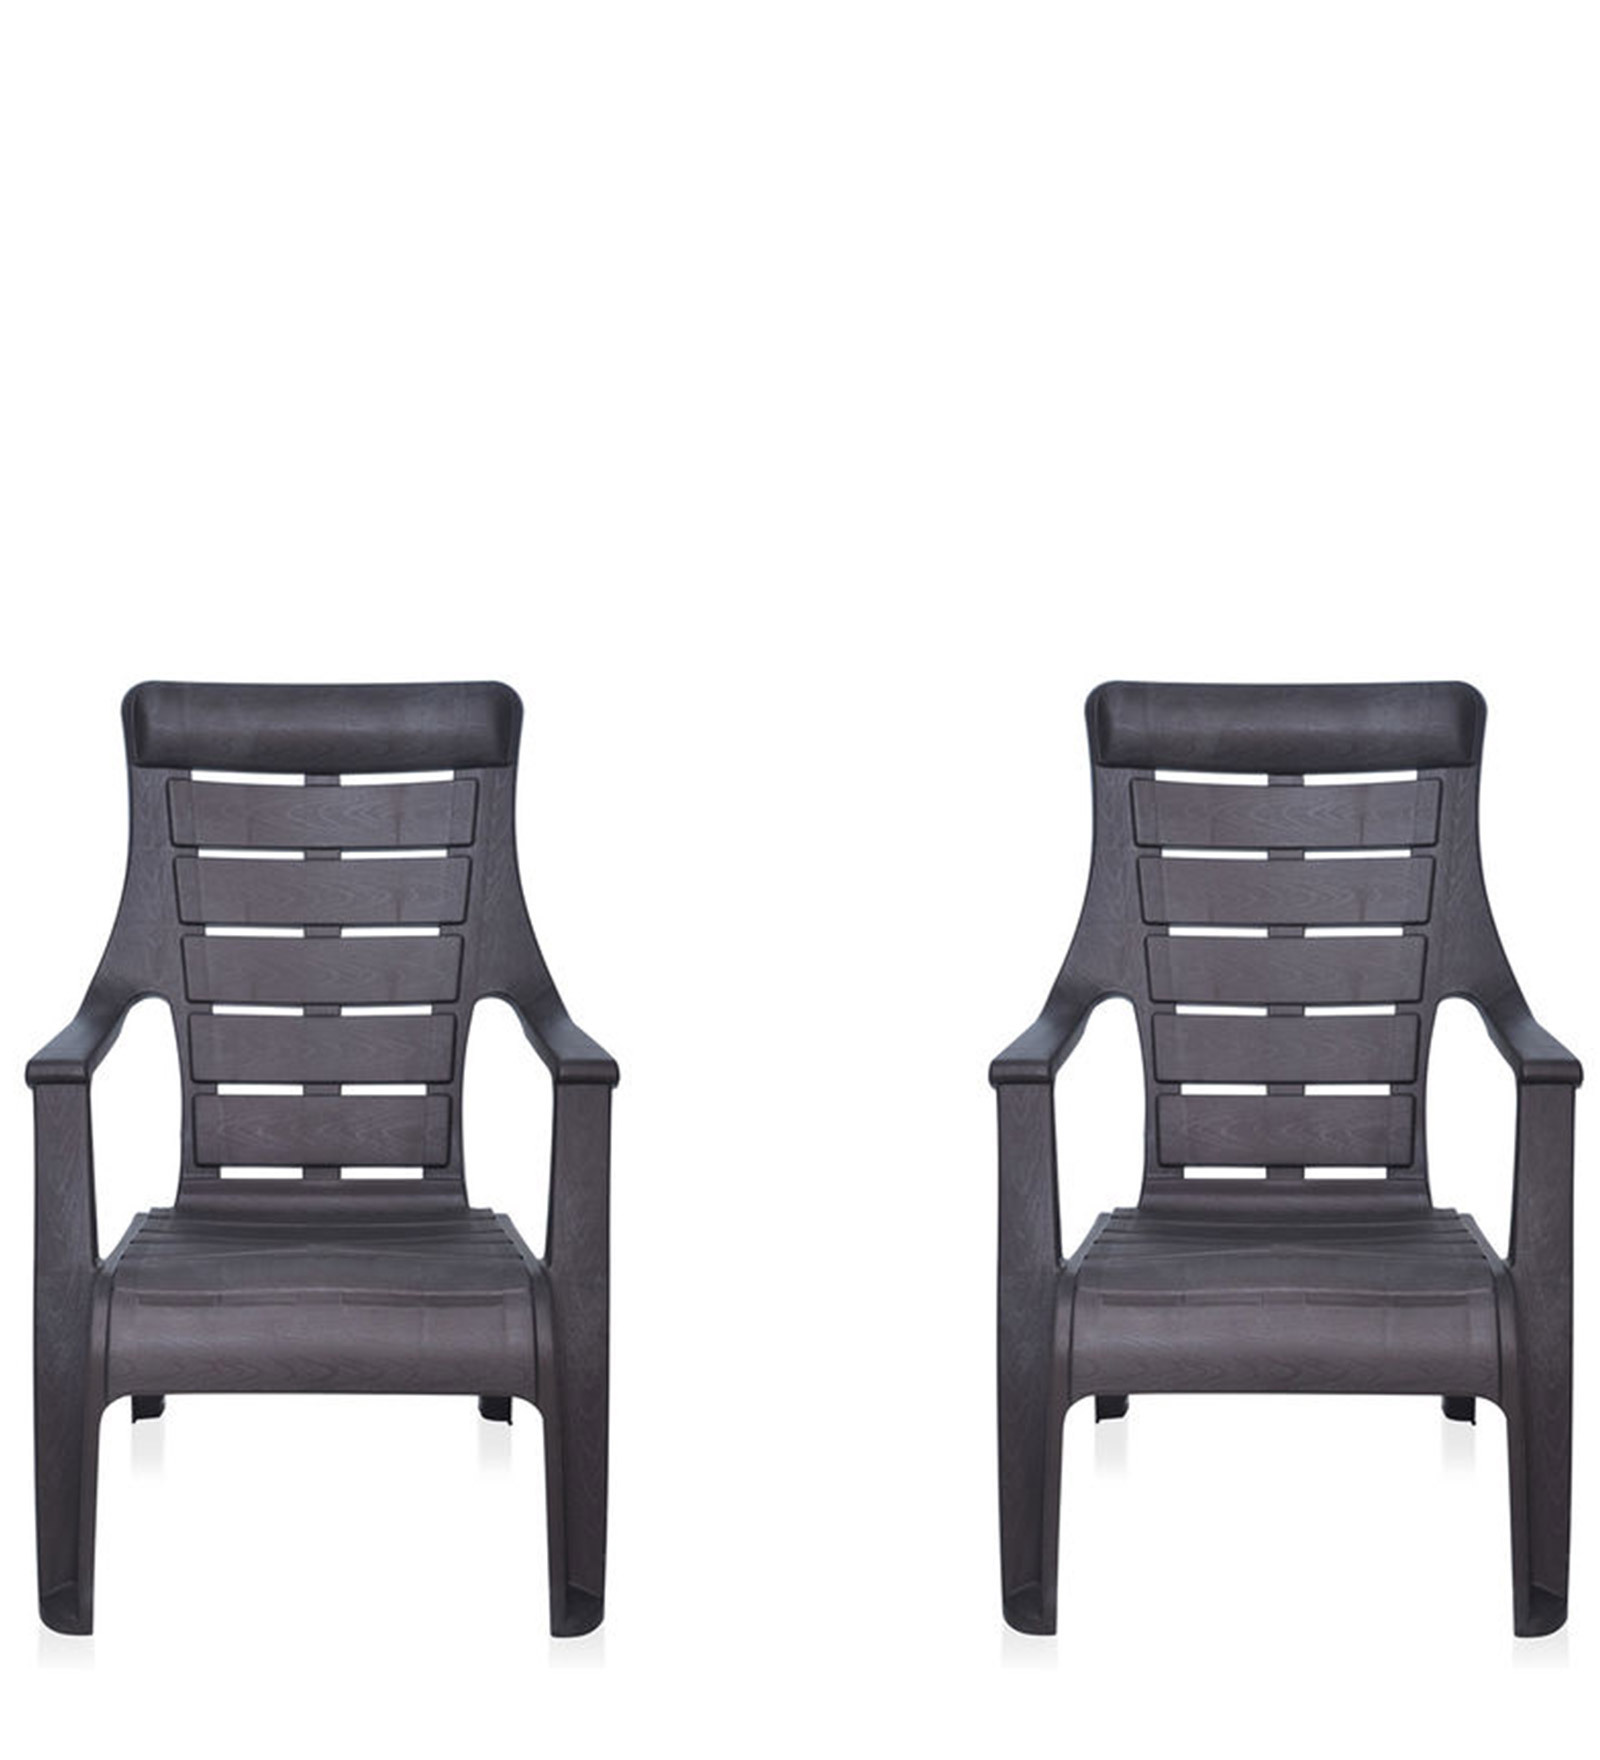Sunday Leisure Chair Set of 2 in Dark Brown Colour by Nilkamal: (883, 601, 1588, 1726), (58, 652, 699, 1694)
